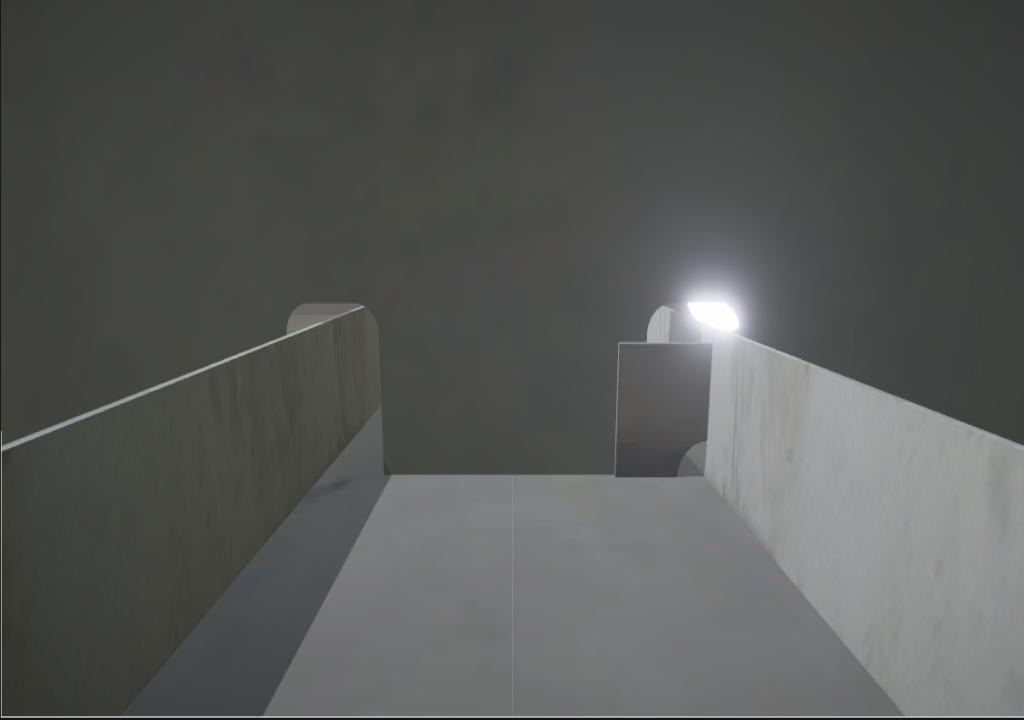fillet_yong_jeop_jang: (381, 462, 616, 482)
plate_CP02: (611, 341, 712, 480)
